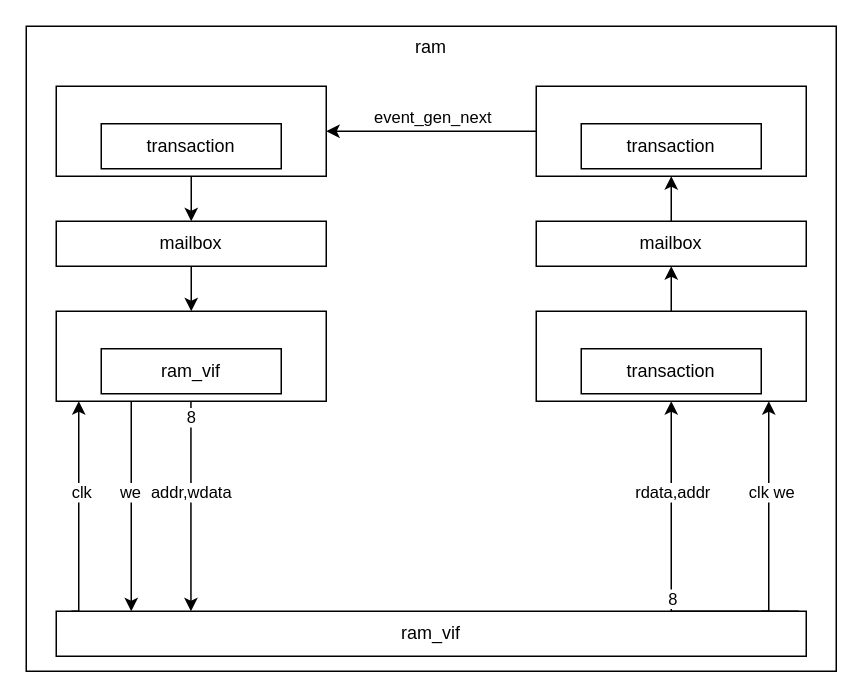
The diagram is 863 pixels wide and 698 high, and some of its shapes have lost their labels. Here are the shapes that lost their labels. From the top down, the box of each, then its label:
(55, 85, 326, 176): generator
(535, 85, 806, 176): scoreboard
(55, 310, 326, 401): driver
(535, 310, 806, 401): monitor
